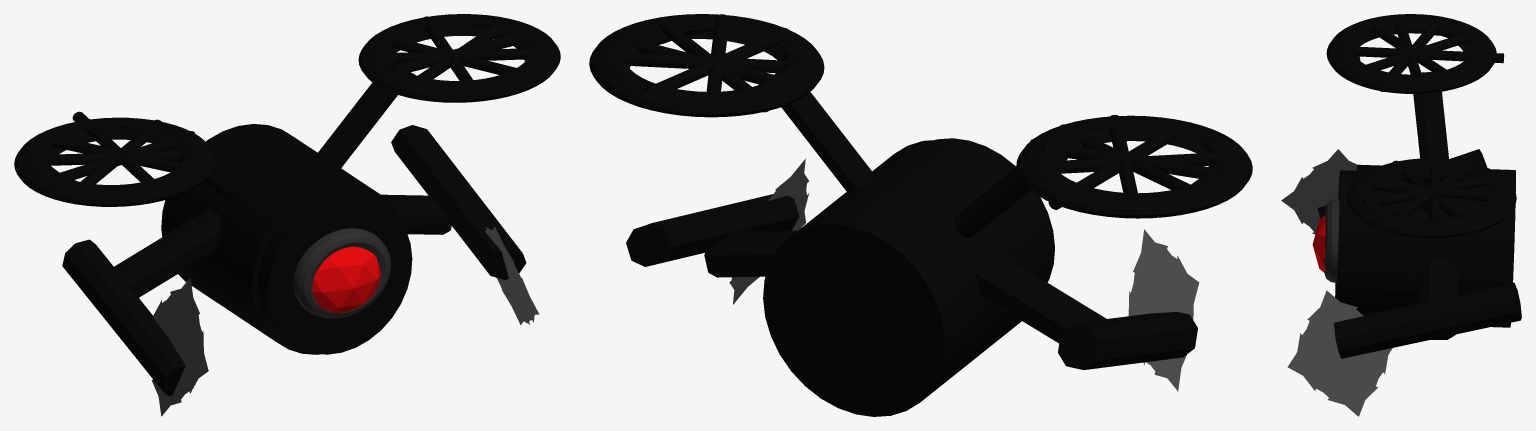
The model's file is Killer Drone Chainsaw.glb.
3 views of the same model, side by side, from view 1: azimuth 30°, elevation 25°; view 2: azimuth 150°, elevation 25°; view 3: azimuth 270°, elevation 25° (orthographic). The views are drawn at different scales.
Parts seen in each view (by area): view 1: Cylinder, Torus.001, Torus.002, Cube.002, Cube.003, Cube.004, Plane.001, Icosphere, Torus, Cube, Cube.001, Plane (+11 smaller); view 2: Cylinder, Torus.002, Torus.001, Cube.003, Cube.002, Cube.004, Plane.001, Cube, Cube.001, Cube.005, Cylinder.003, Cylinder.007 (+9 smaller); view 3: Cylinder, Cube.002, Torus.002, Torus.001, Plane, Plane.001, Cube.005, Cube.001, Cylinder.007, Torus, Cylinder.004, Cylinder.002 (+10 smaller).
Boxes of the visible parts, box(x1,y1,x2,y2) form: Cylinder: box(161, 124, 412, 354); Torus.001: box(358, 14, 560, 102); Torus.002: box(14, 117, 215, 206); Cube.002: box(391, 125, 526, 279); Cube.003: box(62, 239, 185, 396); Cube.004: box(113, 208, 220, 297); Plane.001: box(151, 277, 208, 416); Icosphere: box(312, 246, 380, 313); Torus: box(293, 228, 390, 318); Cube: box(316, 61, 404, 168); Cube.001: box(381, 194, 451, 234); Plane: box(485, 226, 539, 324); Cylinder: box(763, 138, 1054, 416); Torus.002: box(1016, 115, 1252, 218); Torus.001: box(589, 14, 824, 117); Cube.003: box(1058, 312, 1197, 369); Cube.002: box(626, 194, 799, 266); Cube.004: box(975, 247, 1106, 343); Plane.001: box(1128, 229, 1199, 391); Cube: box(772, 67, 875, 192); Cube.001: box(704, 230, 797, 277); Cube.005: box(953, 139, 1067, 237); Cylinder.003: box(618, 52, 820, 73); Cylinder.007: box(1048, 127, 1177, 209); Cylinder: box(1335, 164, 1515, 327); Cube.002: box(1334, 282, 1521, 358); Torus.002: box(1326, 14, 1496, 93); Torus.001: box(1346, 158, 1516, 238); Plane: box(1287, 290, 1392, 416); Plane.001: box(1281, 149, 1356, 234); Cube.005: box(1412, 72, 1448, 158); Cube.001: box(1419, 259, 1457, 339); Cylinder.007: box(1352, 46, 1504, 63); Torus: box(1324, 198, 1339, 282); Cylinder.004: box(1357, 179, 1506, 201); Cylinder.002: box(1362, 173, 1500, 206).
Bounding box in the file's own units: 6.81 × 3.08 × 3.05.
